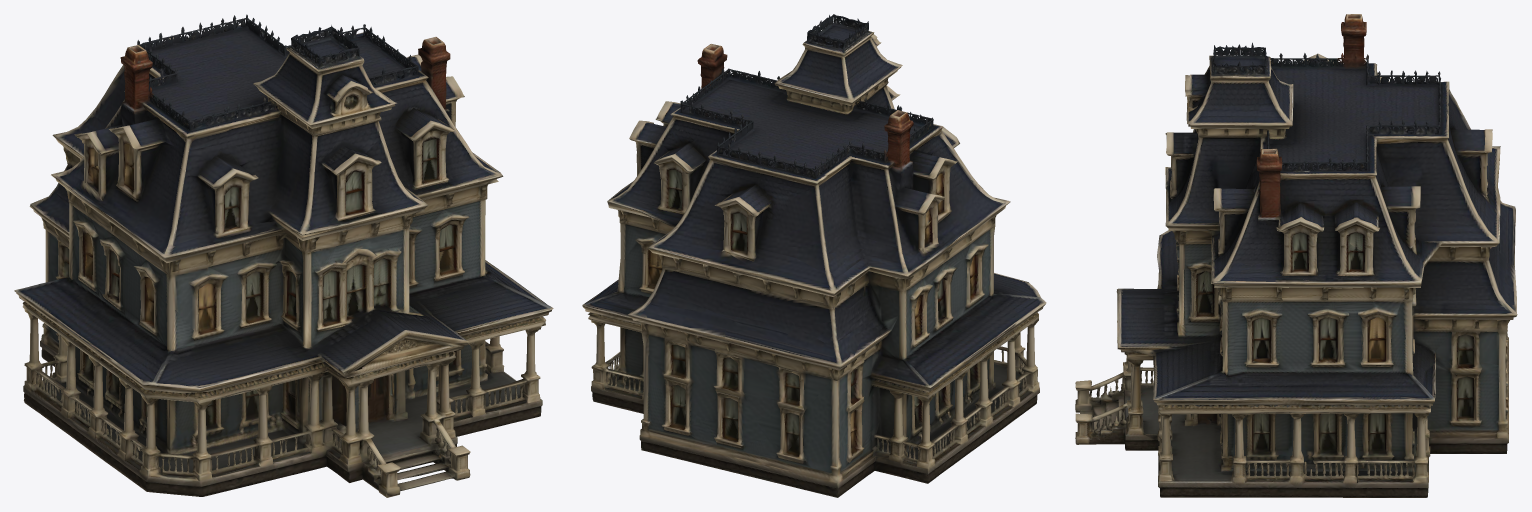
The model's file is tripo_convert_2d190be9-ee5d-4766-b295-7a6beeb3eb9d.fbx.
3 renders of one model, left to right at view 1: azimuth 30°, elevation 25°; view 2: azimuth 150°, elevation 25°; view 3: azimuth 270°, elevation 25°, orthographic. The views are drawn at different scales.
Visible parts, largest first — view 1: tripo_node_2d190be9; view 2: tripo_node_2d190be9; view 3: tripo_node_2d190be9.
Part boxes in pixels (bbox=[...]): tripo_node_2d190be9: bbox=[14, 14, 553, 497]; tripo_node_2d190be9: bbox=[582, 14, 1046, 497]; tripo_node_2d190be9: bbox=[1075, 14, 1517, 497].
Bounding box in the file's own units: 0.9171 × 0.8803 × 0.9602.
1 material, 1 textured.
